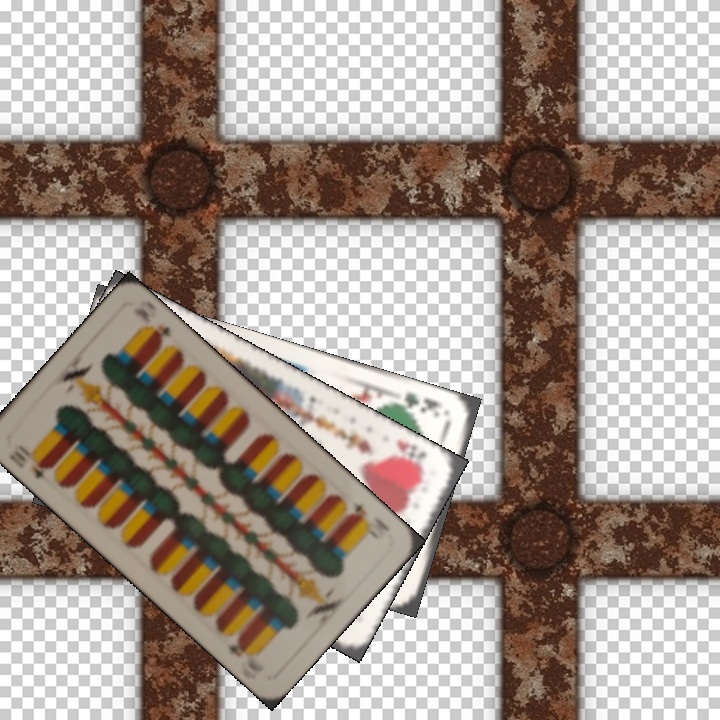E10: (4, 446, 55, 482), (343, 498, 378, 528)
GK: (390, 387, 444, 421)
HK: (392, 436, 430, 475)
